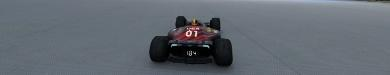Car: (148, 15, 232, 66)
